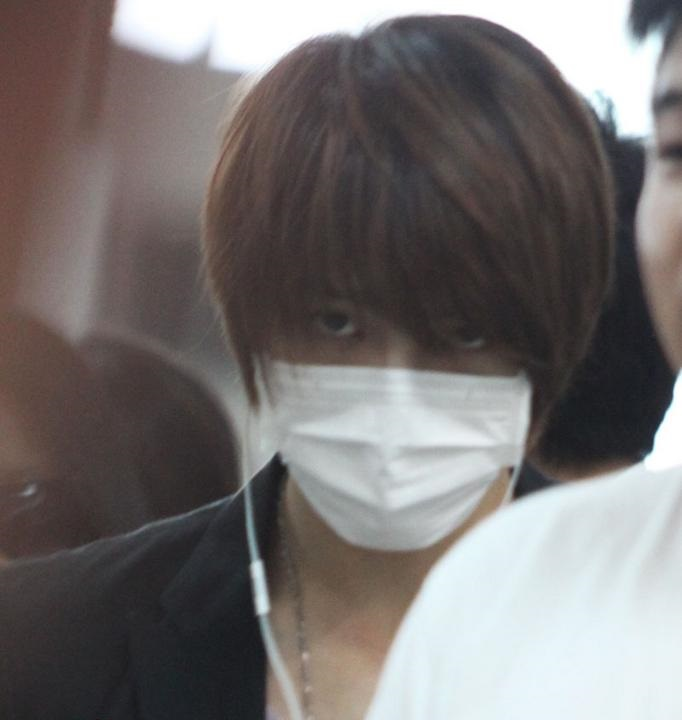face_mask: (273, 195, 531, 534)
